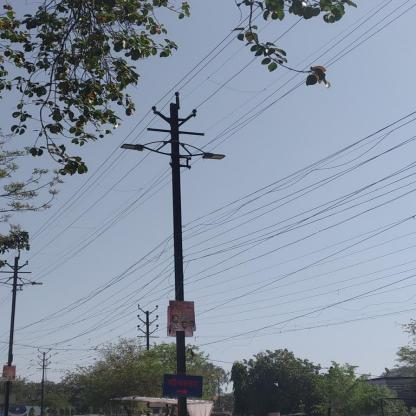Electrical Pole: (124, 83, 226, 414)
